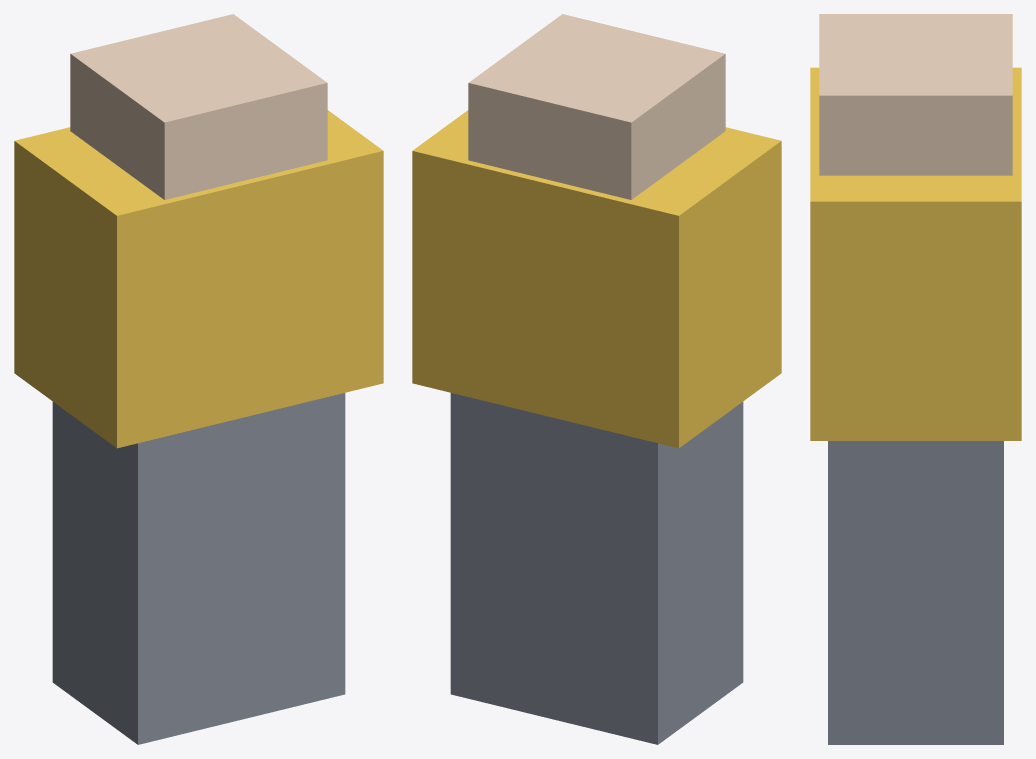
The model's file is survivor.glb.
The picture shows the model from 3 angles, left to right: view 1: azimuth 30°, elevation 25°; view 2: azimuth 150°, elevation 25°; view 3: azimuth 270°, elevation 25°; orthographic projection. The views are drawn at different scales.
Visible parts, largest first — view 1: Survivor; view 2: Survivor; view 3: Survivor.
Boxes of the visible parts, x1,y1,x2,y2 form: Survivor: (14,14,383,744); Survivor: (412,14,781,744); Survivor: (810,14,1021,744).
Size of the model in its own units: 0.72 by 1.6 by 0.48.
